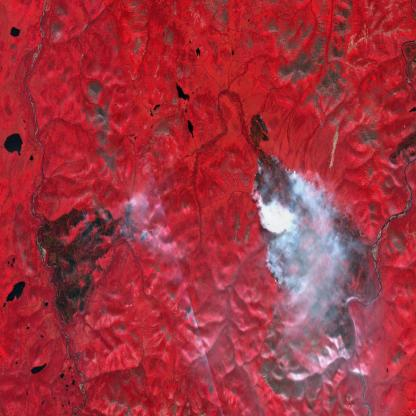fire: (248, 151, 380, 294), (114, 198, 158, 250)
